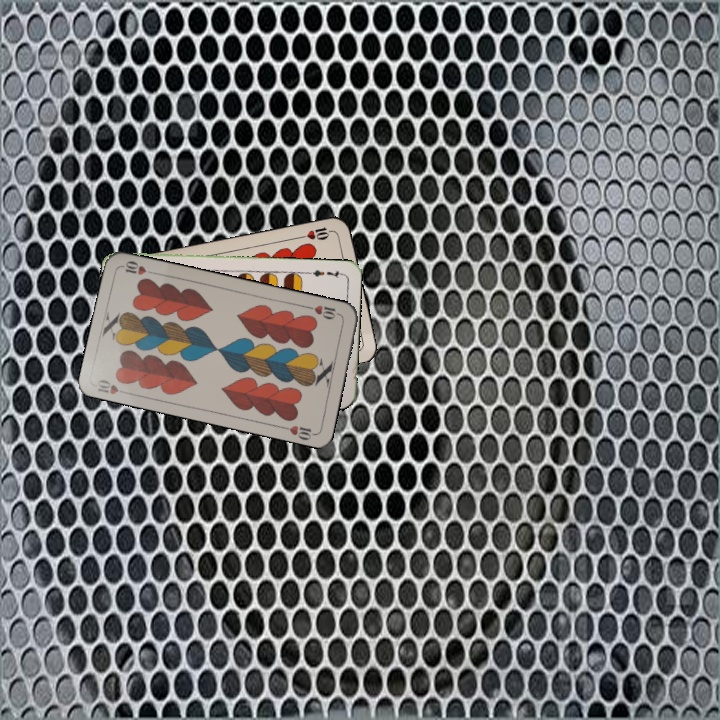E7: (305, 266, 345, 280)
H10: (93, 375, 132, 397), (303, 301, 343, 322), (296, 223, 337, 243)
